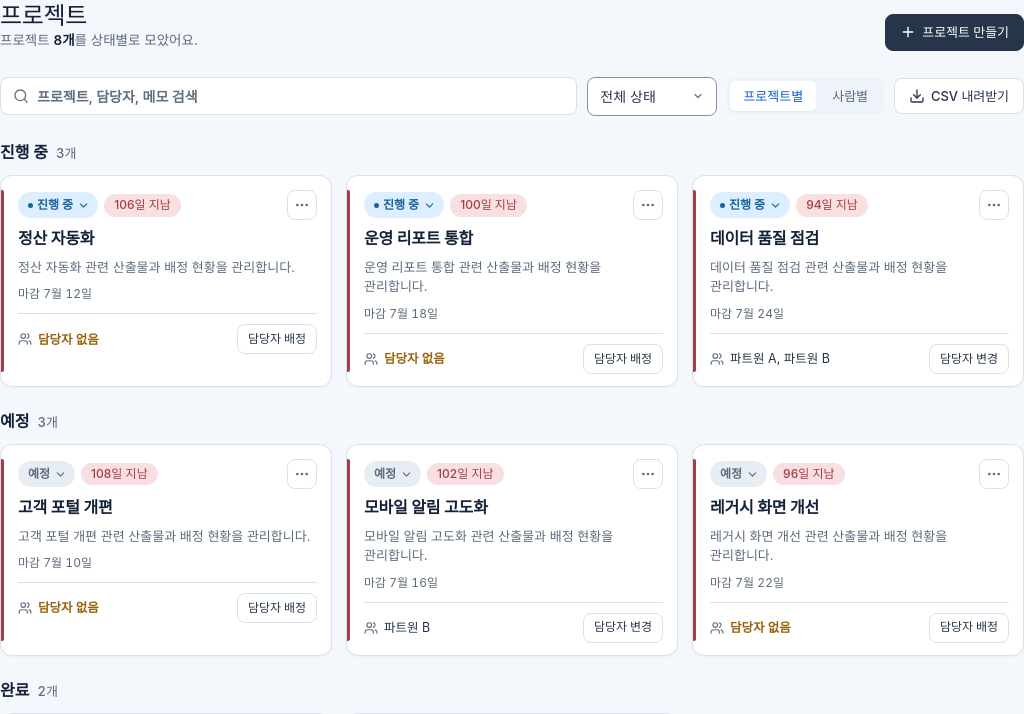
it: ProjectsPanel › asks before discarding edited project details
Click the button named "정산 자동화 수정" at (166, 281), box [1,176,331,386]
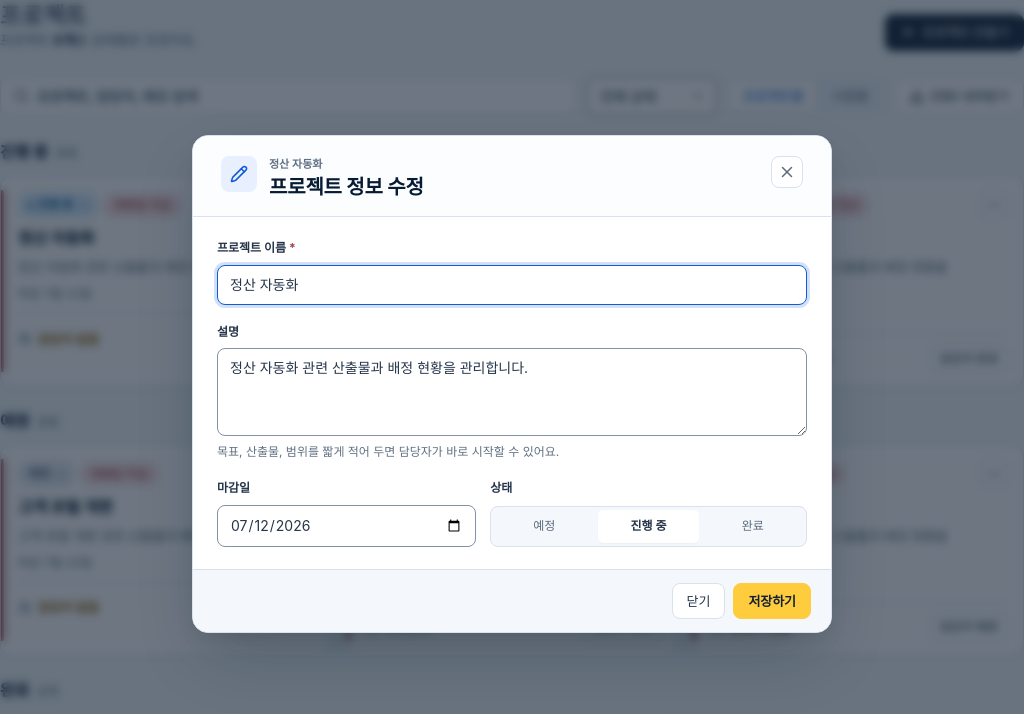
Type " 추가 메모" into the text box labelled "설명" at (512, 392), box [217,348,807,436]
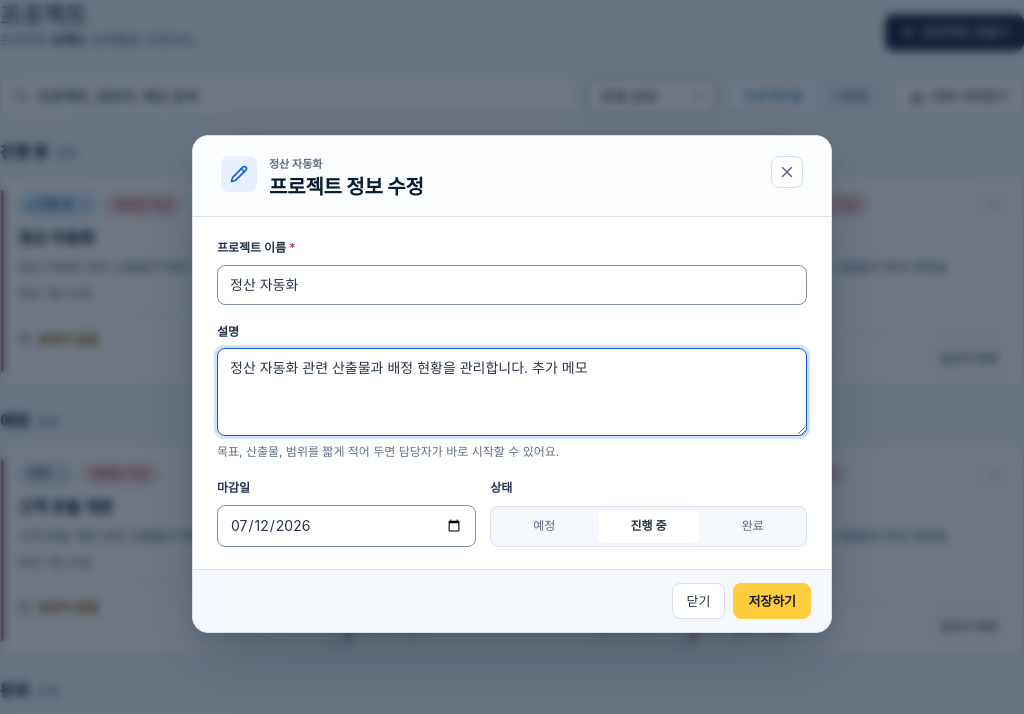
Click the button "닫기" at (698, 601), box [672,582,725,619]
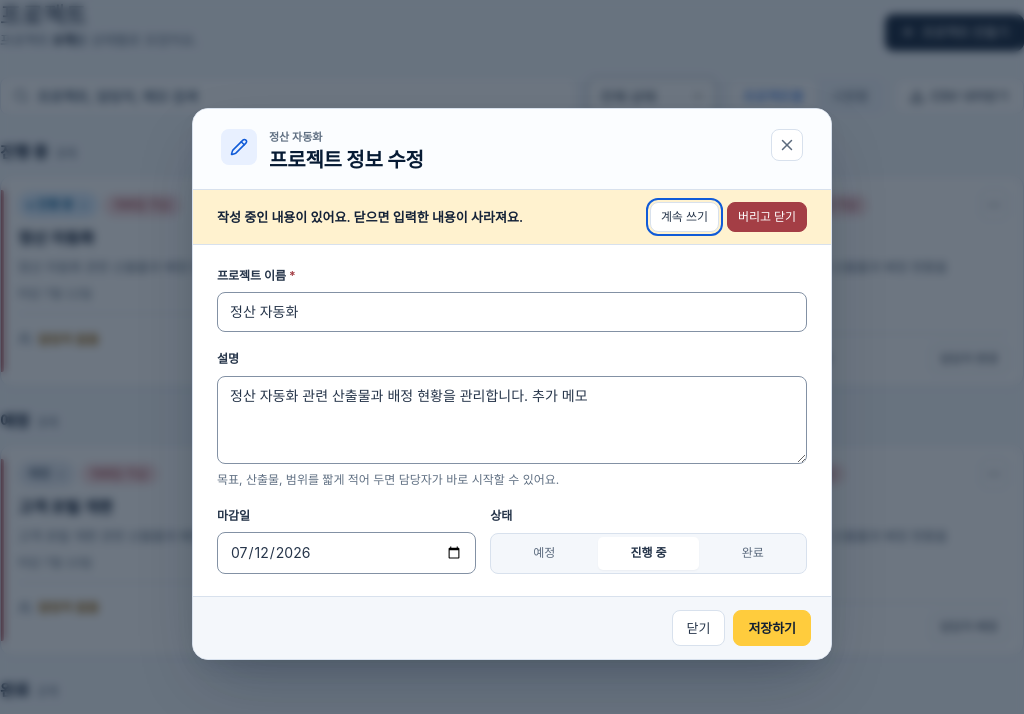
Check: the text "작성 중인 내용이 있어요. 닫으면 입력한 내용이 사라져요." is shown, box [217,207,523,227]
